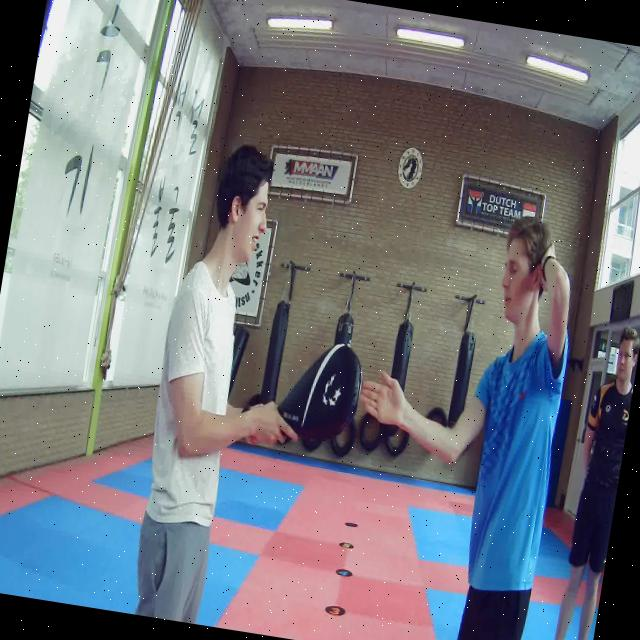paddle: (277, 343, 363, 440)
